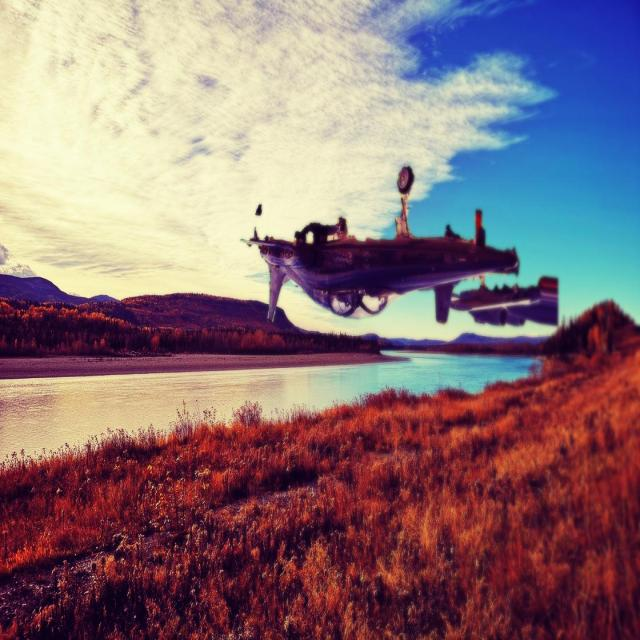airplane: (240, 164, 520, 326)
